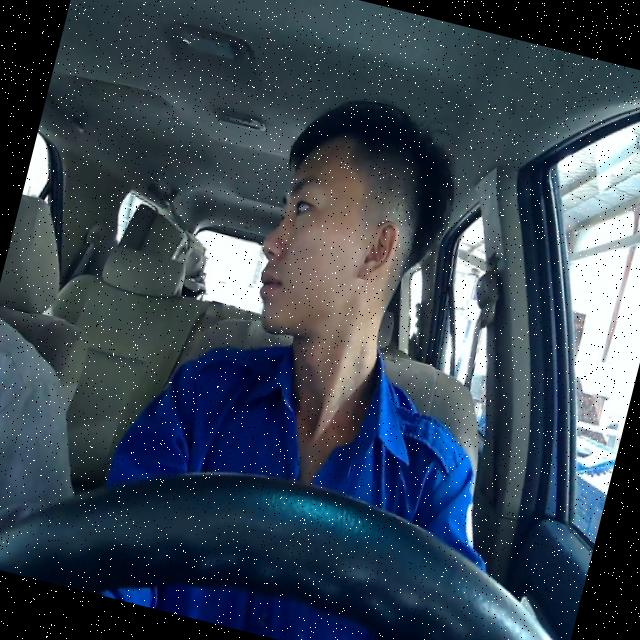seeing_left: (240, 118, 423, 359)
